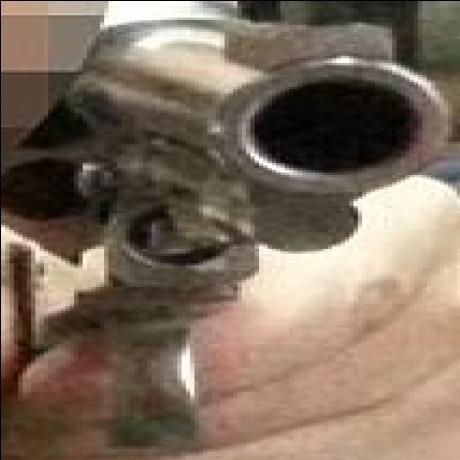weapon: (4, 0, 446, 431)
